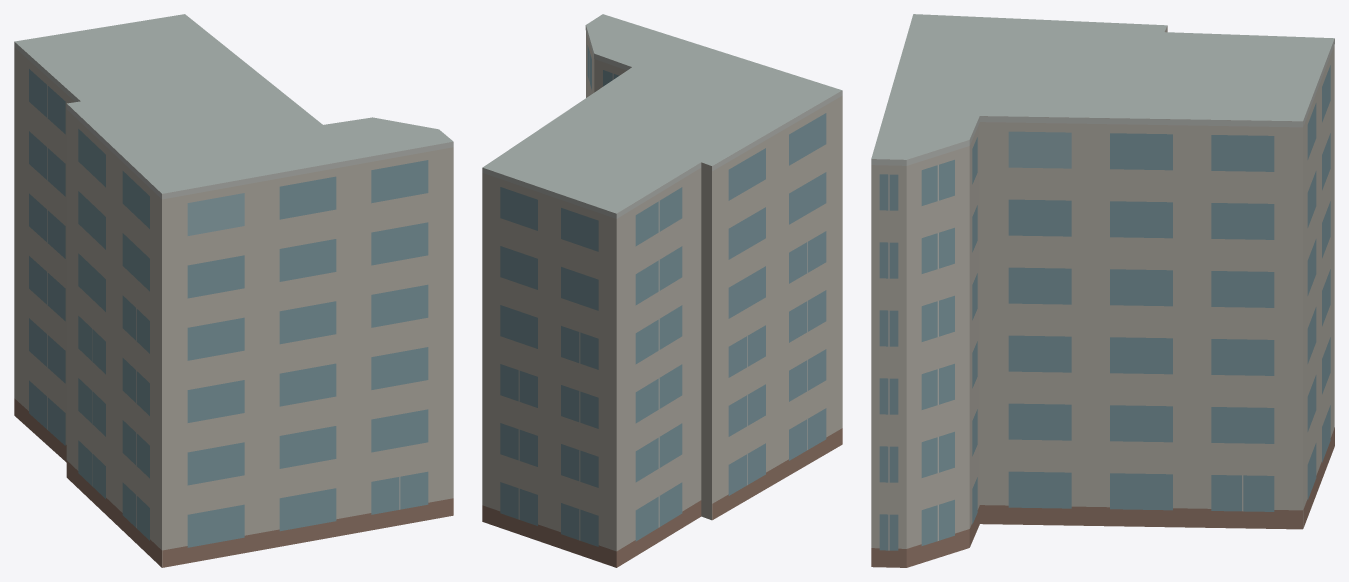
Rendered from survey-upis-32871270.glb.
3 renders of one model, left to right at view 1: azimuth 30°, elevation 25°; view 2: azimuth 150°, elevation 25°; view 3: azimuth 270°, elevation 25°, orthographic. The views are drawn at different scales.
Parts seen in each view (by area): view 1: survey-upis-32871270.tmp; view 2: survey-upis-32871270.tmp; view 3: survey-upis-32871270.tmp.
Part boxes in pixels (<box>): survey-upis-32871270.tmp: <box>14,14,453,567</box>; survey-upis-32871270.tmp: <box>482,14,842,567</box>; survey-upis-32871270.tmp: <box>871,14,1334,567</box>.
Bounding box in the file's own units: 12.58 × 16.4 × 16.9.
